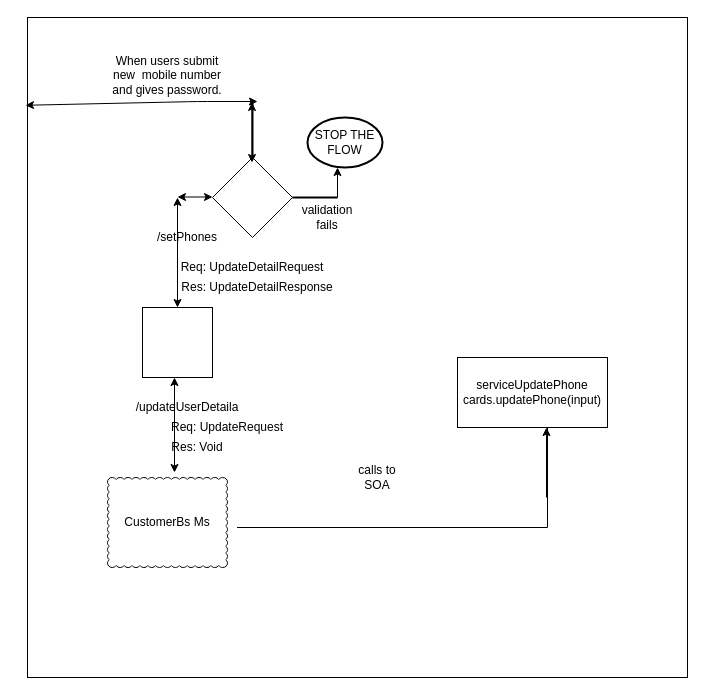
The diagram is 705 pixels wide and 695 high, and some of its shapes have lost their labels. Here are the shapes that lost their labels. From the top down, the box of each, then its label:
(212, 156, 292, 238): validates signatures
(142, 306, 212, 378): Credentials Web adaptaer Ms
